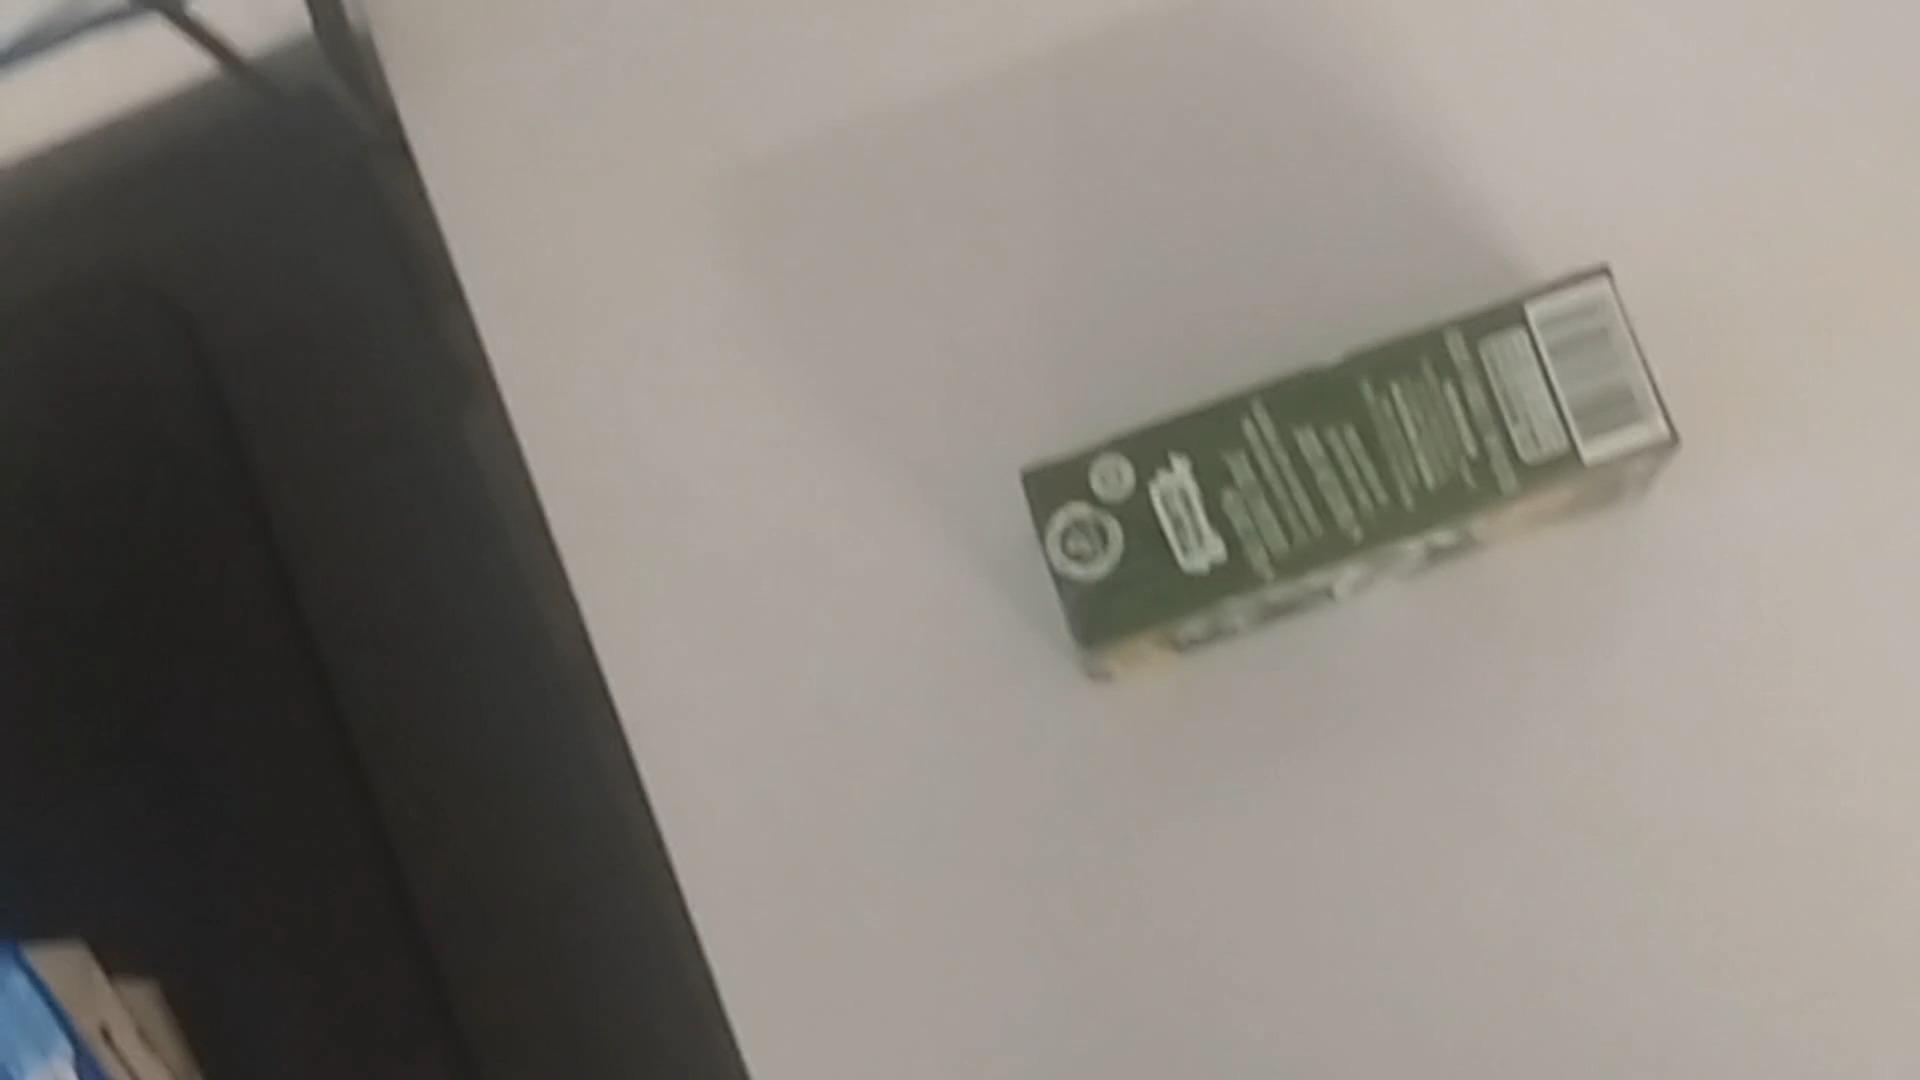coco: (1012, 255, 1685, 692)
